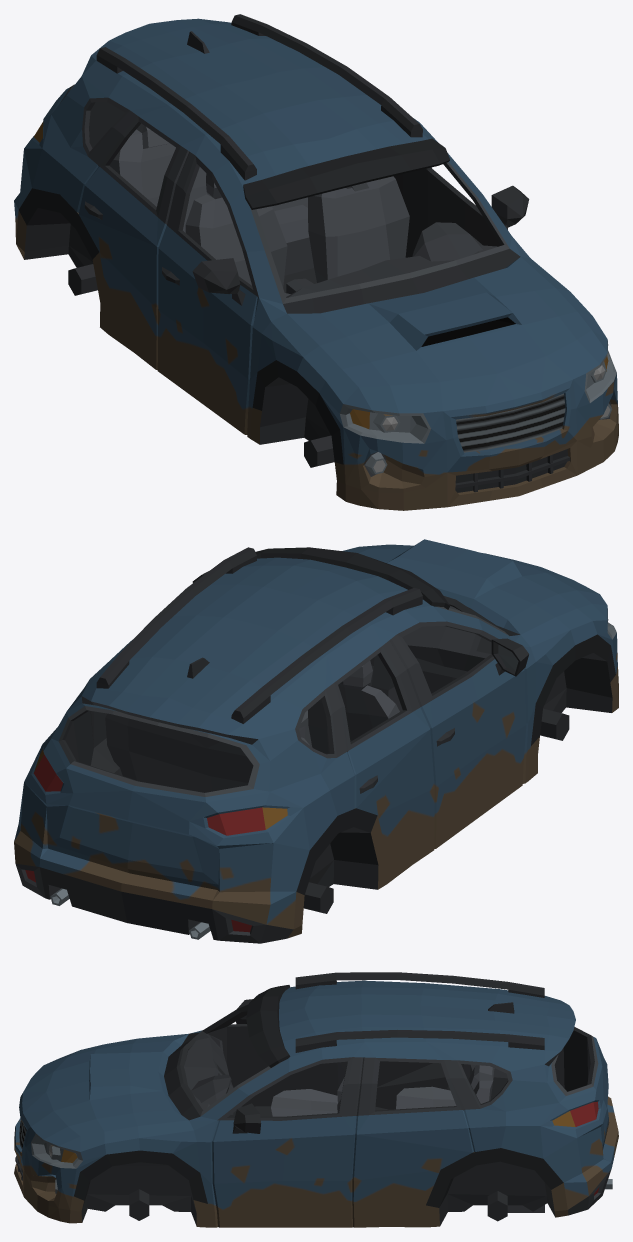
File: SM_Veh_Car_Medium_01.glb
3 views of the same model, one above another, from view 1: azimuth 30°, elevation 25°; view 2: azimuth 150°, elevation 25°; view 3: azimuth 270°, elevation 25° (orthographic). The views are drawn at different scales.
Parts seen in each view (by area): view 1: SM_Veh_Car_Medium_01; view 2: SM_Veh_Car_Medium_01; view 3: SM_Veh_Car_Medium_01.
Boxes of the visible parts, x1=… form: SM_Veh_Car_Medium_01: x1=14, y1=14, x2=618, y2=510; SM_Veh_Car_Medium_01: x1=14, y1=539, x2=618, y2=943; SM_Veh_Car_Medium_01: x1=14, y1=972, x2=618, y2=1227.
Size of the model in its own units: 2.37 by 1.64 by 4.97.
Materials: 1 (1 with a texture image).
